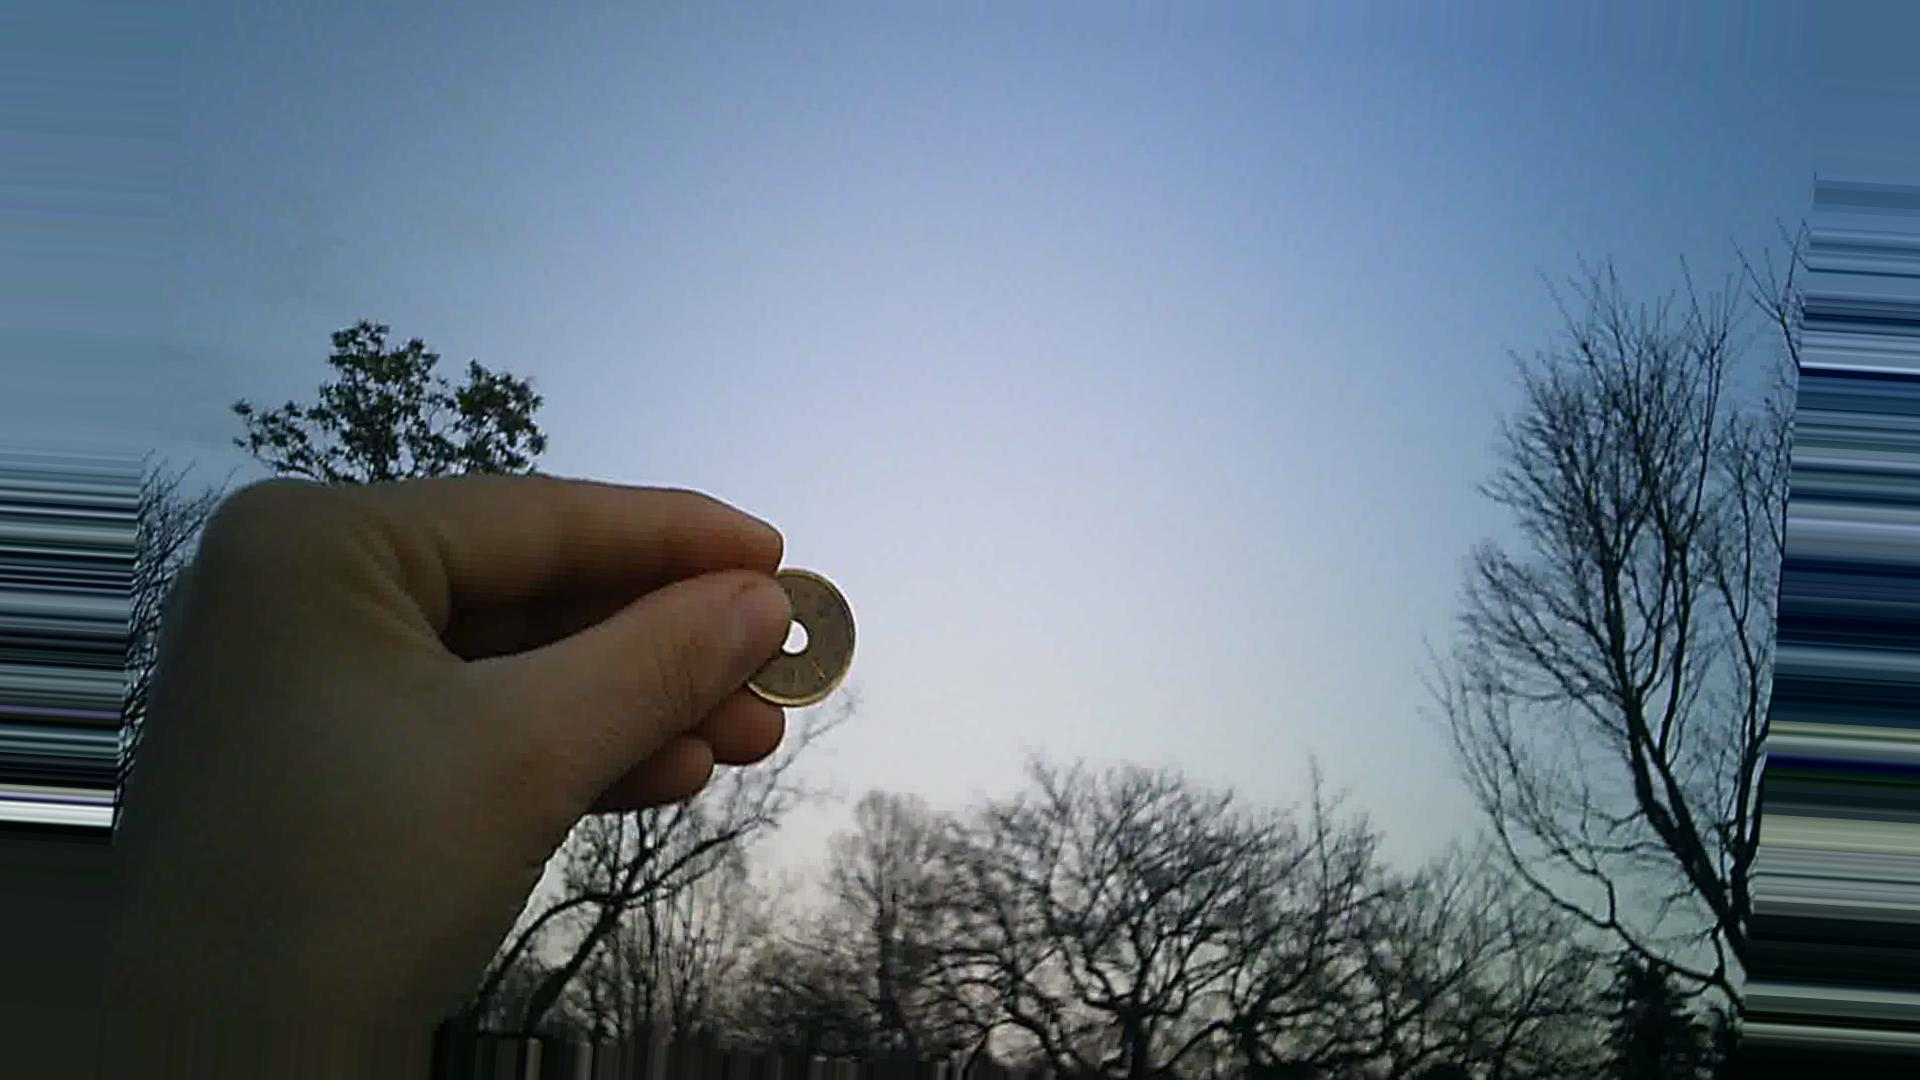5 Yen: (717, 555, 860, 731)
